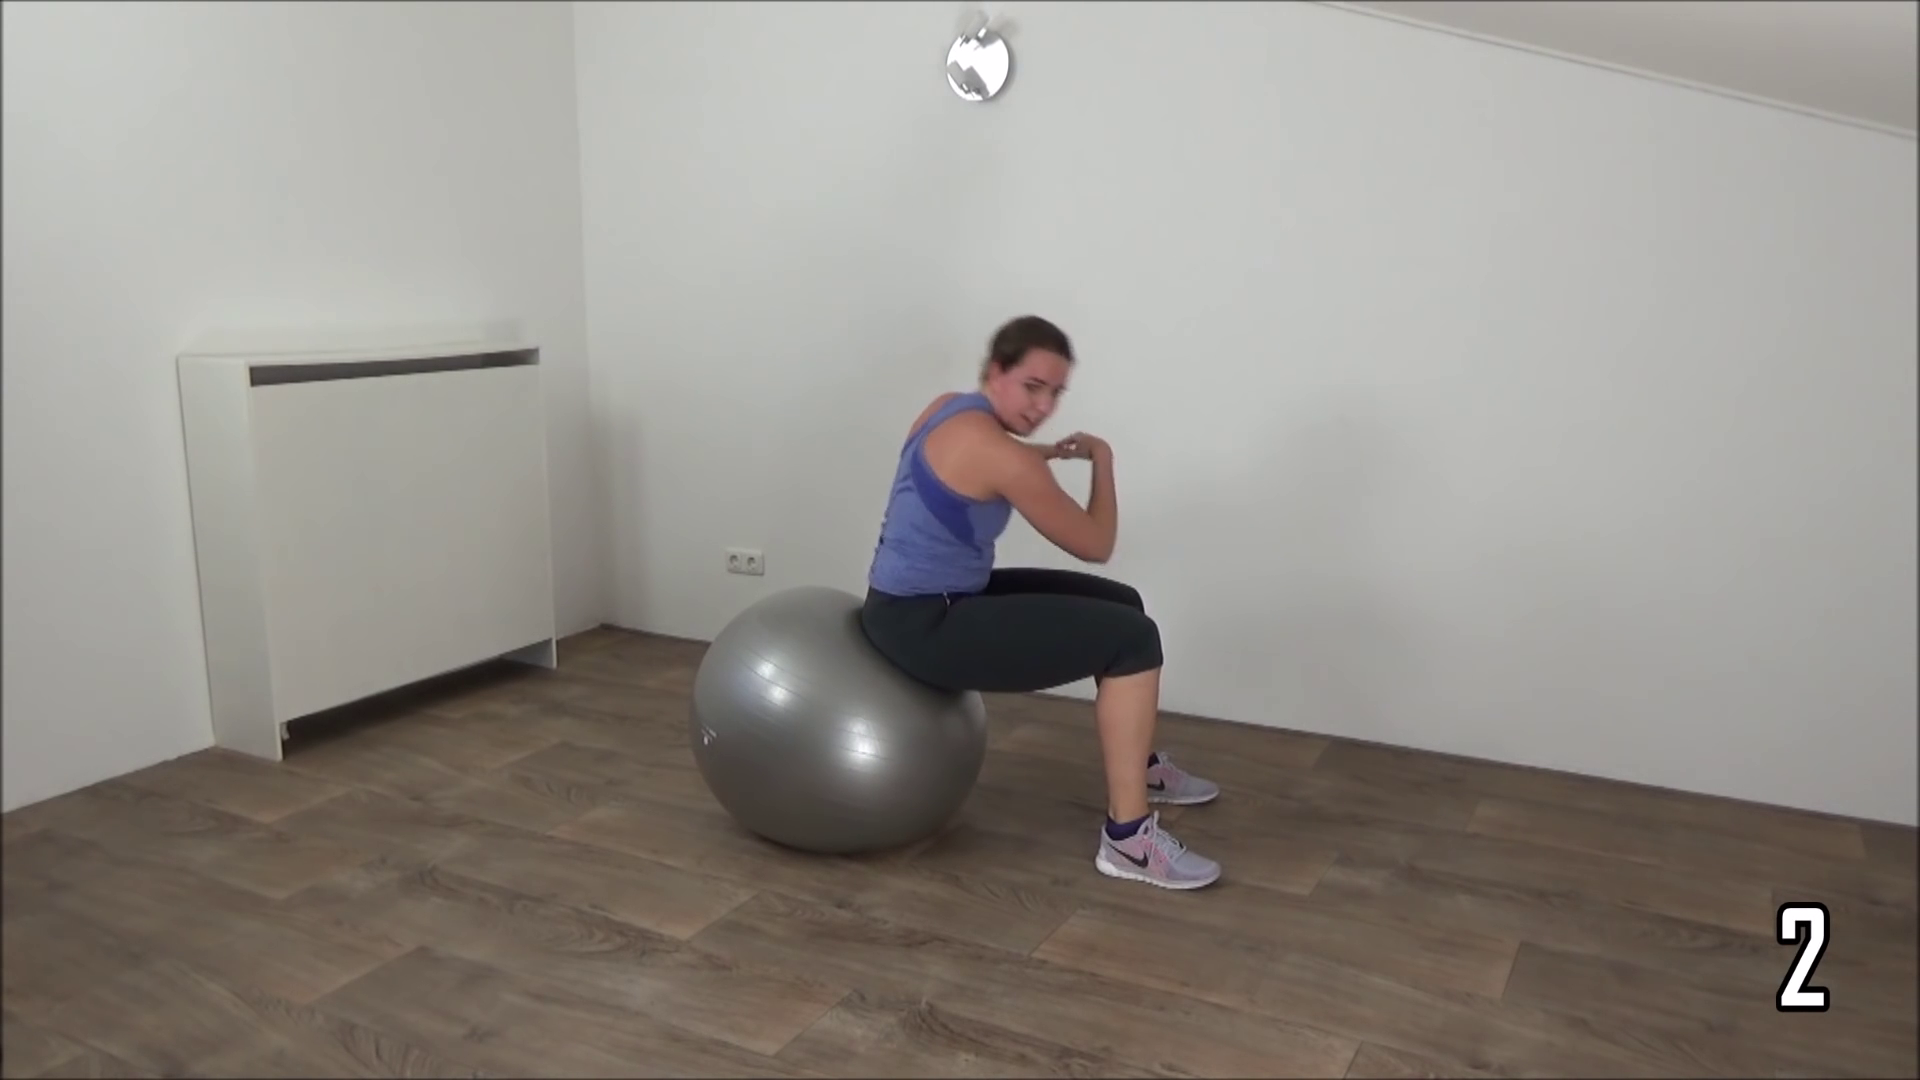yogaball: (673, 578, 996, 873)
